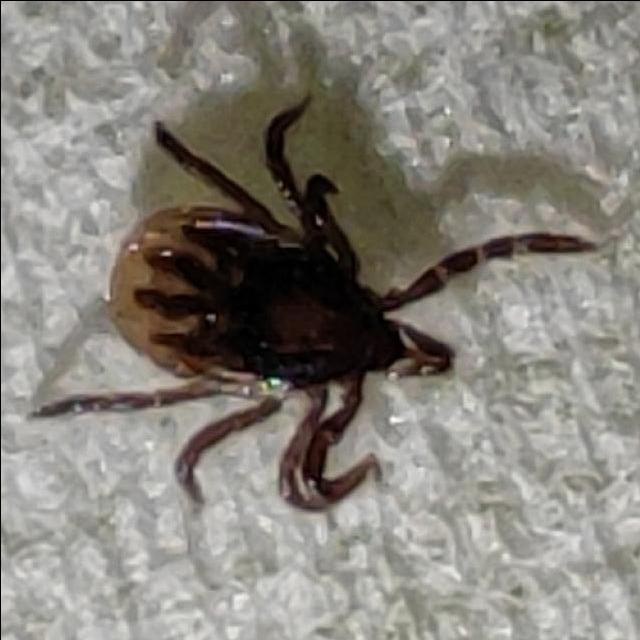Ixodes Ricinus-F: (24, 93, 595, 512)
